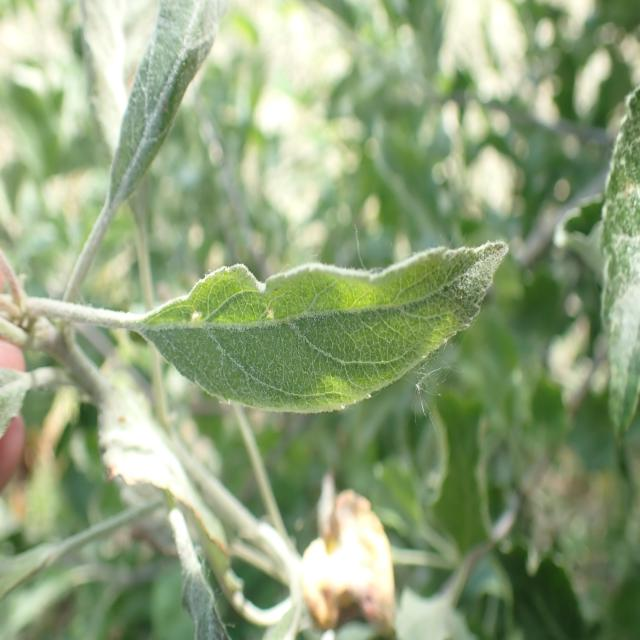Powdery_mildew: (127, 231, 512, 414), (90, 4, 228, 233), (600, 72, 640, 483)
